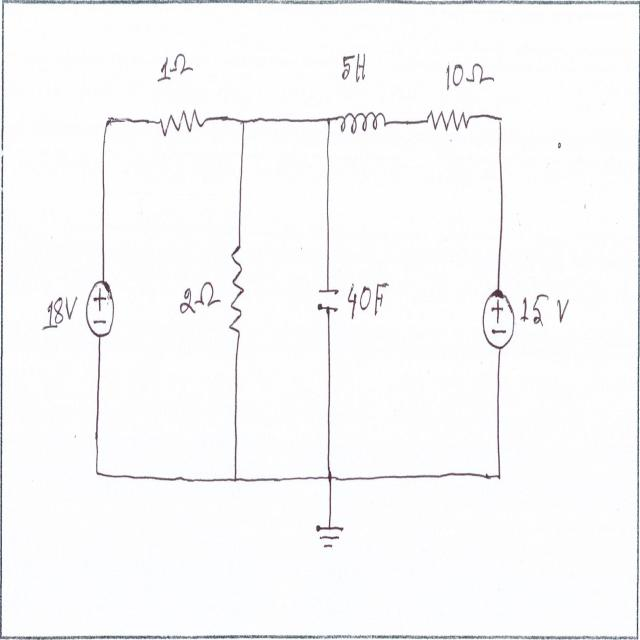capacitor: (317, 281, 341, 318)
ground: (311, 519, 349, 554)
inductor: (336, 102, 386, 140)
resistor: (228, 241, 247, 341), (425, 104, 471, 140), (158, 104, 206, 138)
voltage_source: (478, 290, 519, 353), (82, 274, 116, 341)
